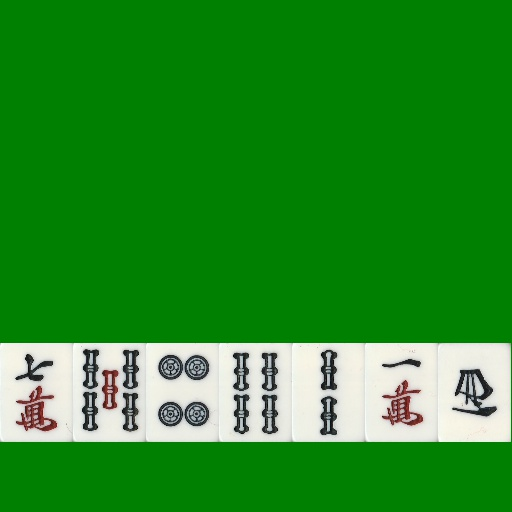1m: (365, 343, 438, 442)
2s: (292, 343, 365, 442)
4p: (146, 343, 219, 442)
4s: (219, 343, 292, 442)
5s: (73, 343, 146, 442)
7m: (0, 343, 73, 442)
west: (438, 343, 511, 442)
